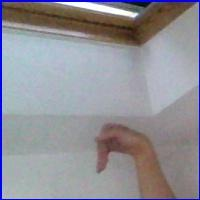del: (92, 119, 153, 178)
